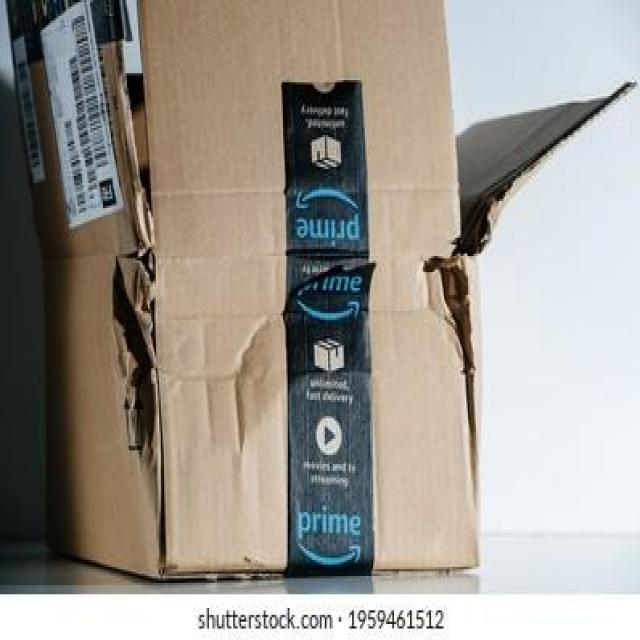damaged: (111, 254, 167, 471), (426, 245, 478, 377)
